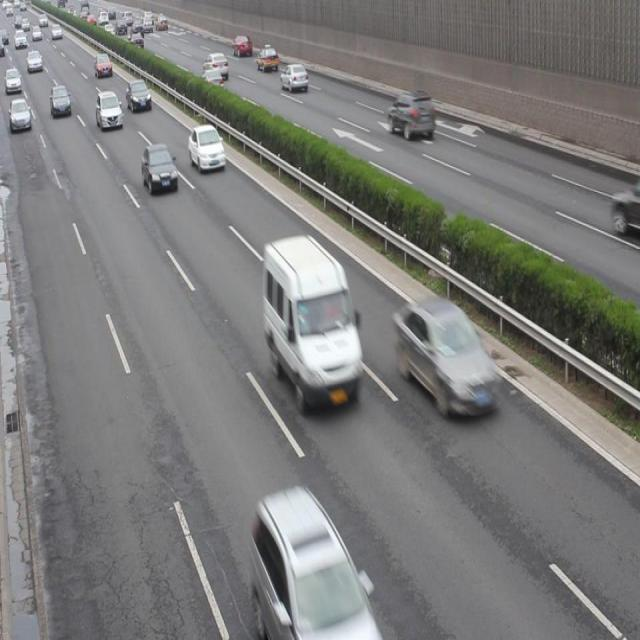car: (250, 486, 376, 640), (392, 295, 496, 418), (386, 88, 437, 143), (142, 142, 178, 195), (189, 123, 225, 170), (609, 180, 640, 234), (95, 90, 123, 133), (279, 60, 309, 95), (9, 97, 33, 133), (127, 78, 151, 113), (198, 68, 224, 99), (49, 84, 72, 119), (256, 47, 278, 70)
truck: (261, 233, 362, 411)
